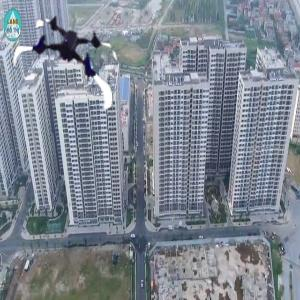drone: (11, 2, 122, 113)
